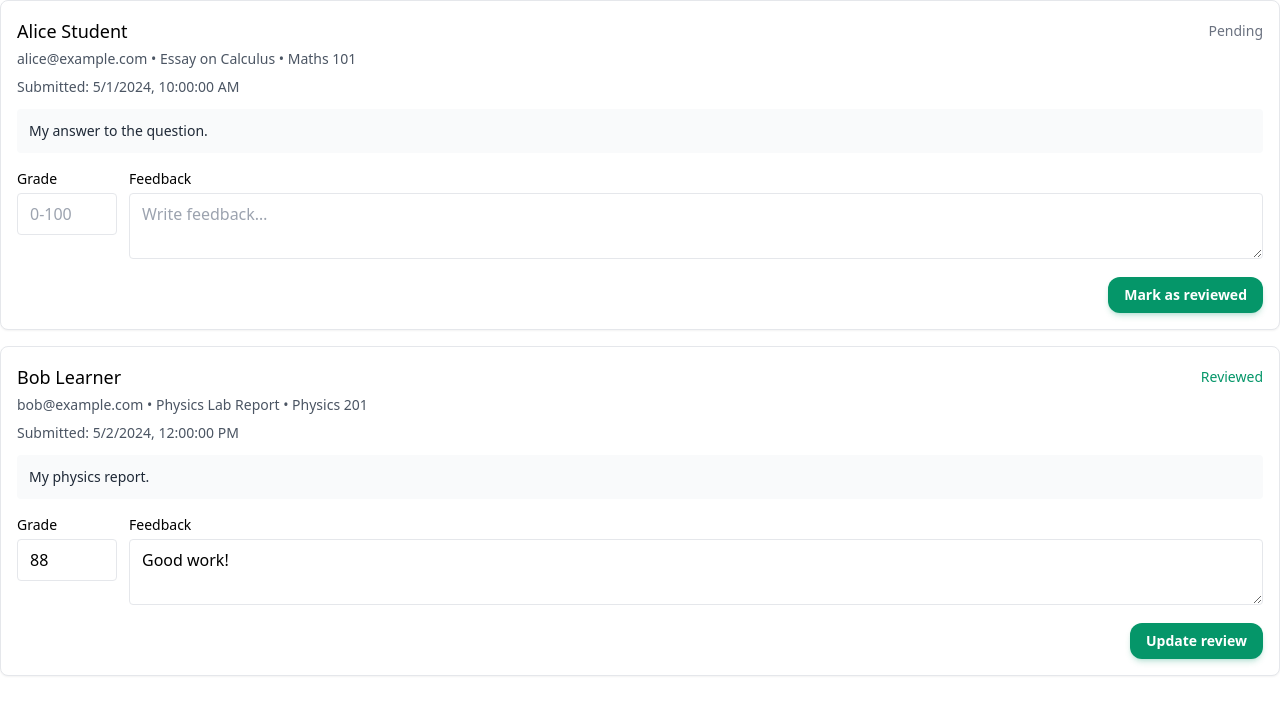
SubmissionReviewList › shows error message when review PATCH returns an error (FR9)
Expected: the heading "Alice Student" is shown, [17,17,128,45]
Click the button "Mark as reviewed". click: (1186, 295)
box: [1108,277,1263,313]
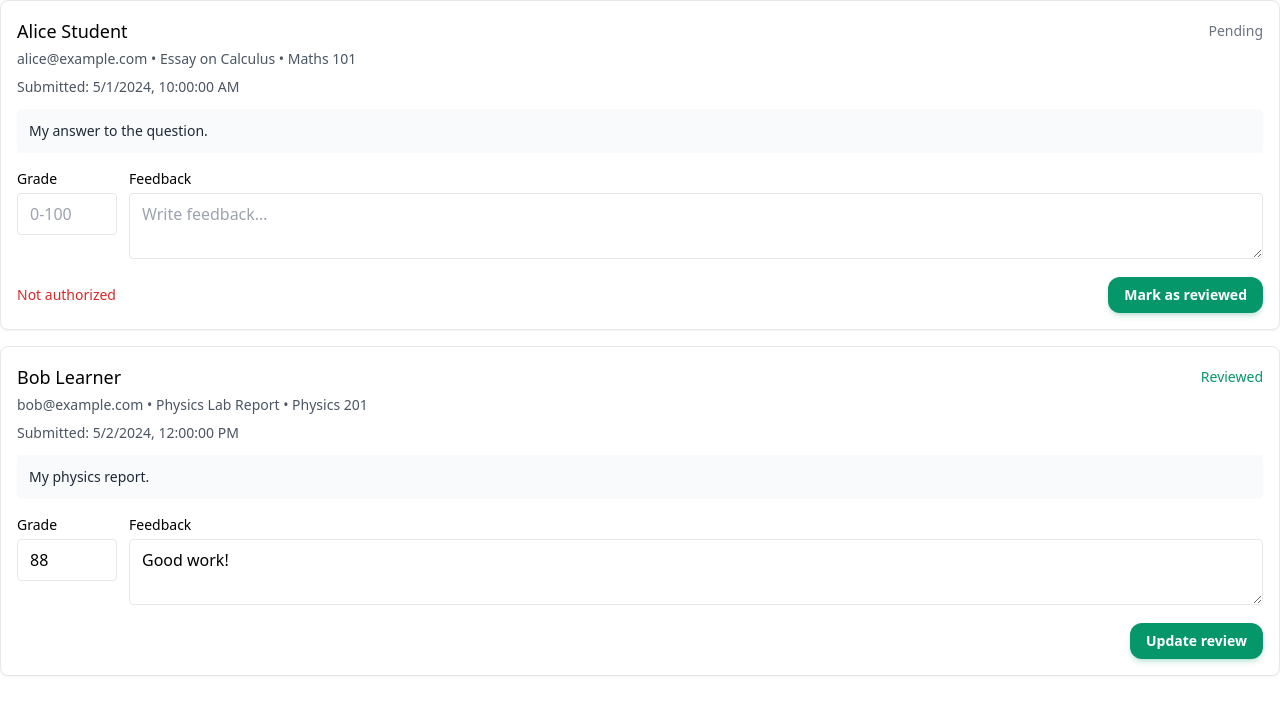
Expected: the text "Not authorized" is shown, [17,285,116,305]
